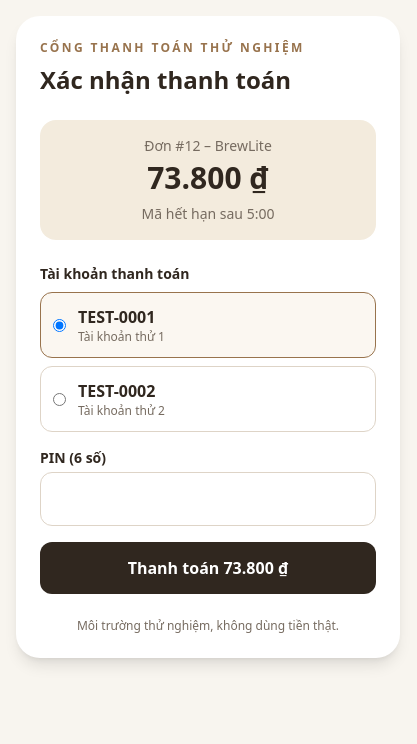
Test case: Trang xác nhận QR trên điện thoại (FR-18) › sai PIN thì hiện thông báo của API và cho nhập lại
This screenshot has width=417, height=744.
Type "000000" into the password field labelled "PIN (6 số)" at [208, 499], box top-left (40, 472), bottom-right (376, 526)
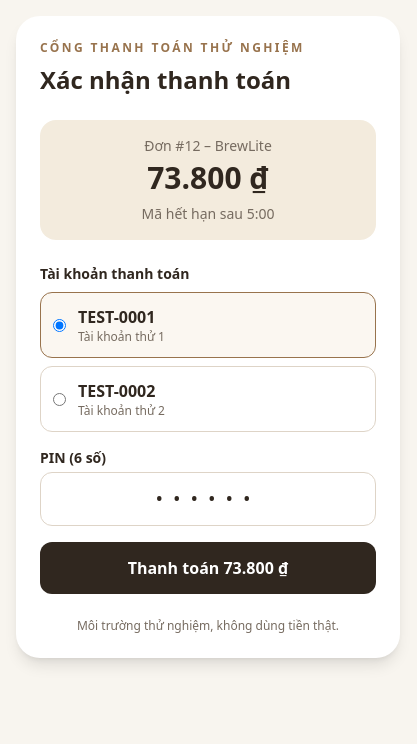
Click the button "Thanh toán 73.800 ₫" at [208, 568], box top-left (40, 542), bottom-right (376, 594)
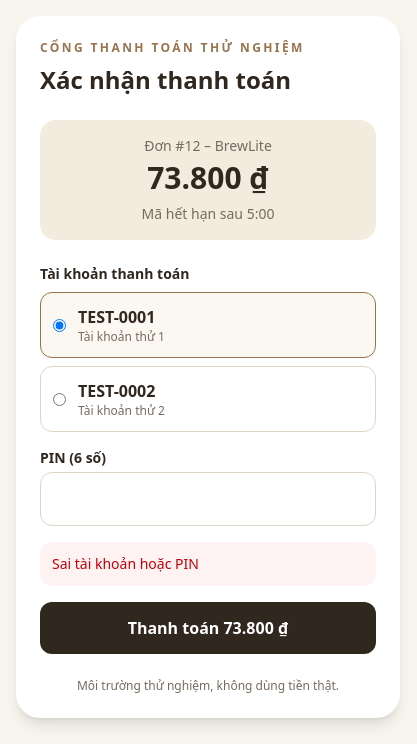
Check: the message reads "Sai tài khoản hoặc PIN", box top-left (52, 554), bottom-right (199, 573)
Check: the password field labelled "PIN (6 số)" is empty, box top-left (40, 472), bottom-right (376, 526)
